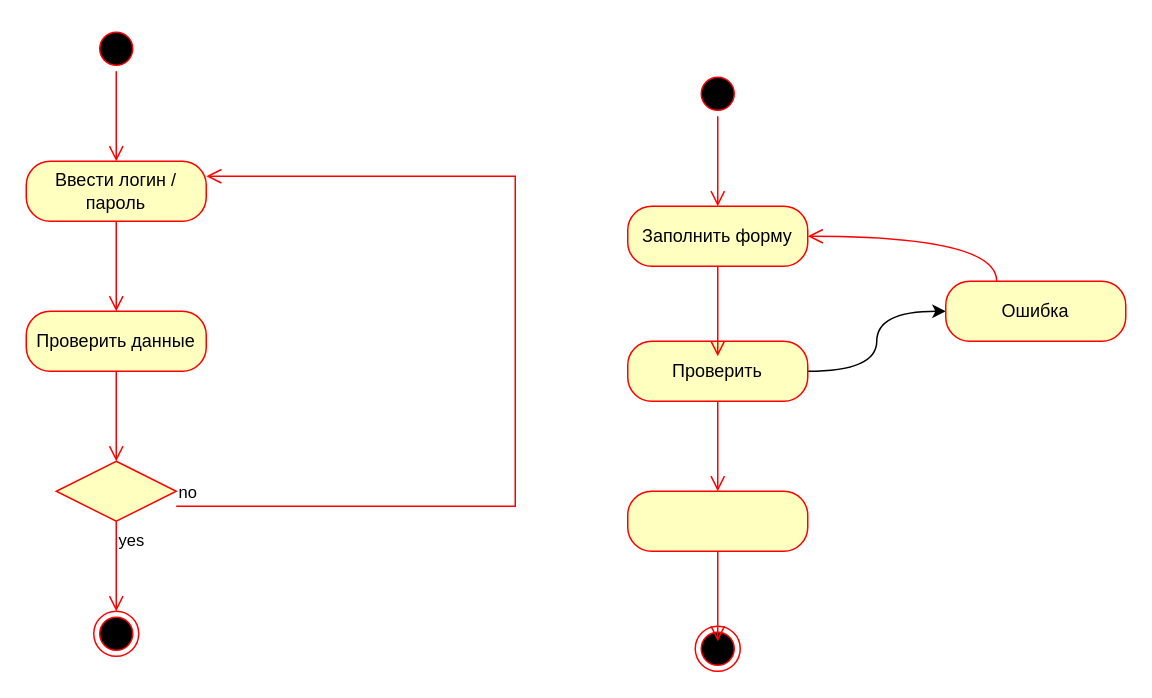
This 1152x698 diagram has some shape labels left out. Here are the shapes that lost their labels. From the top down, the centre of each, then its label:
At [115,490]: "Данные верны".
At [717,520]: "Сохранить".
